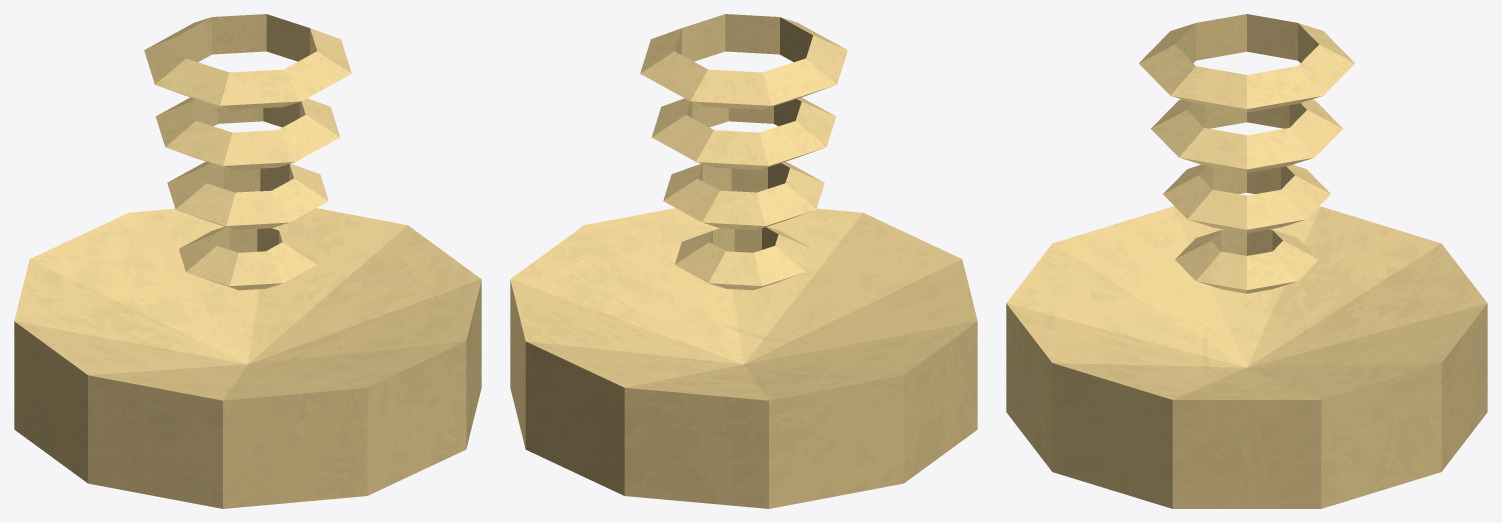
Rendered from WandHolder.fbx.
The picture shows the model from 3 angles, left to right: view 1: azimuth 30°, elevation 25°; view 2: azimuth 150°, elevation 25°; view 3: azimuth 270°, elevation 25°; orthographic projection.
Parts seen in each view (by area): view 1: Cylinder, Torus.003, Torus.002, Torus.001, Torus; view 2: Cylinder, Torus.003, Torus.002, Torus.001, Torus; view 3: Cylinder, Torus.003, Torus.002, Torus.001, Torus.
Part boxes in pixels (x1,y1,x2,y2): Cylinder: (14, 208, 481, 508); Torus.003: (144, 14, 351, 109); Torus.002: (155, 97, 340, 169); Torus.001: (167, 161, 328, 230); Torus: (179, 226, 316, 290); Cylinder: (510, 208, 977, 508); Torus.003: (640, 14, 847, 109); Torus.002: (651, 97, 836, 169); Torus.001: (663, 161, 824, 230); Torus: (675, 226, 812, 290); Cylinder: (1006, 206, 1487, 508); Torus.003: (1139, 14, 1354, 112); Torus.002: (1151, 99, 1342, 172); Torus.001: (1163, 164, 1330, 233); Torus: (1175, 229, 1318, 293).
Size of the model in its own units: 190 by 169 by 200.
